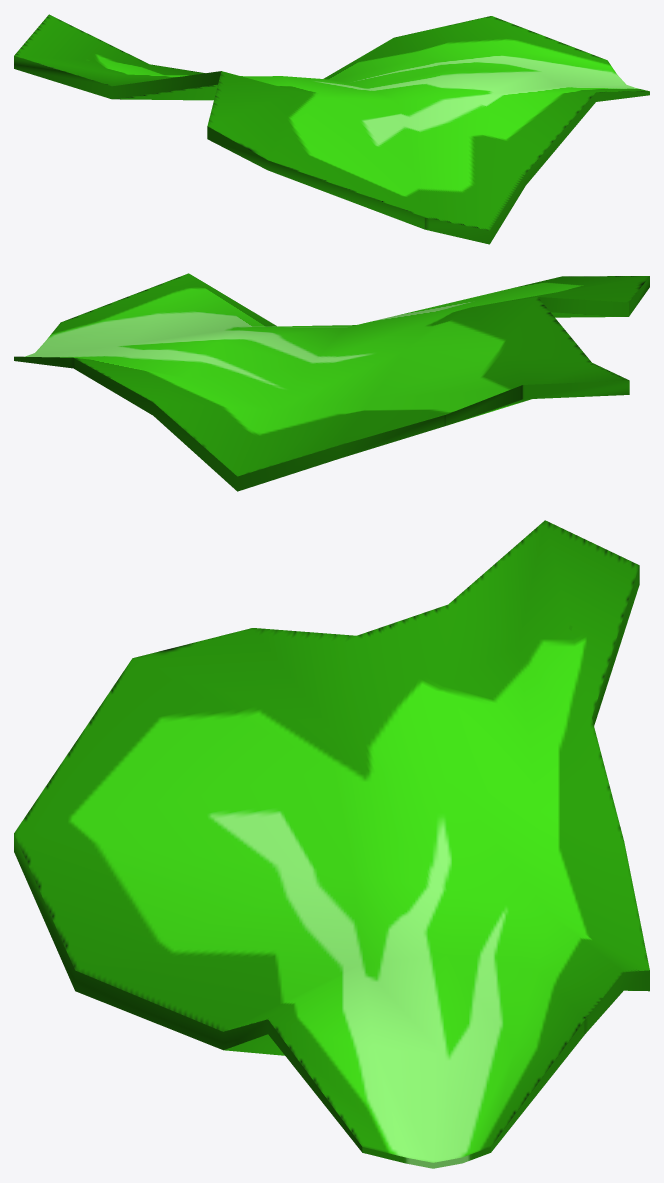
The model's file is Vegetable1.fbx.
3 renders of one model, top to bottom at view 1: azimuth 30°, elevation 25°; view 2: azimuth 150°, elevation 25°; view 3: azimuth 270°, elevation 25°, orthographic. The views are drawn at different scales.
Visible parts, largest first — view 1: pCube11; view 2: pCube11; view 3: pCube11.
Boxes of the visible parts, box(x1,y1,x2,y2) form: pCube11: box(14, 14, 649, 244); pCube11: box(14, 273, 649, 491); pCube11: box(14, 520, 649, 1168).
Size of the model in its own units: 2.63 by 0.6811 by 1.66.
1 material, 1 textured.
